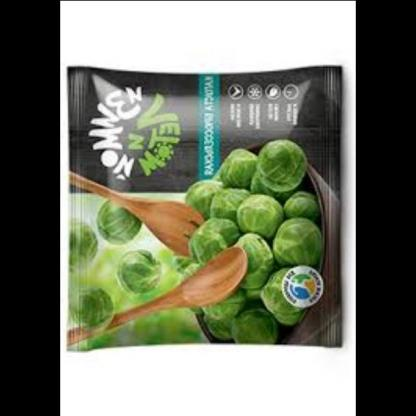brus capusta: (181, 134, 309, 338), (90, 196, 140, 254), (74, 276, 118, 340), (63, 203, 103, 272), (113, 250, 159, 293)
